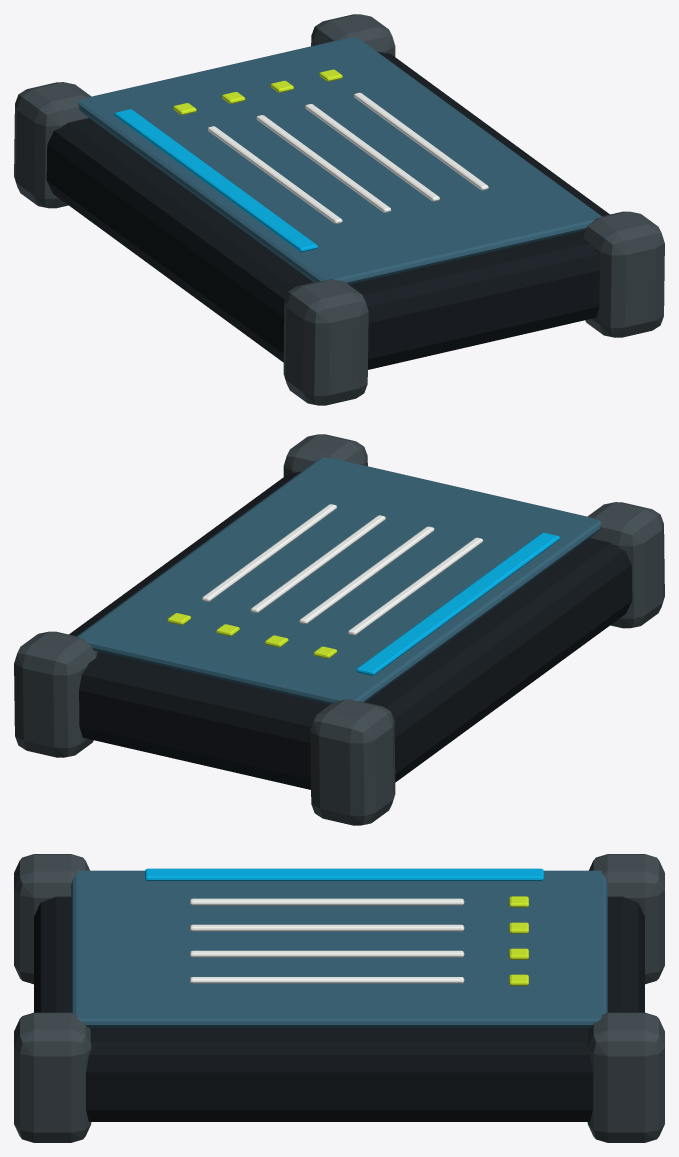
Rendered from PROP_Tablet.mobile.glb.
3 renders of one model, top to bottom at view 1: azimuth 30°, elevation 25°; view 2: azimuth 150°, elevation 25°; view 3: azimuth 270°, elevation 25°, orthographic. The views are drawn at different scales.
Visible parts, largest first — view 1: PROP_Tablet; view 2: PROP_Tablet; view 3: PROP_Tablet.
Boxes of the visible parts, bbox=[...] form: PROP_Tablet: bbox=[14, 14, 664, 405]; PROP_Tablet: bbox=[14, 434, 664, 825]; PROP_Tablet: bbox=[14, 854, 664, 1142].
Bounding box in the file's own units: 0.1775 × 0.054 × 0.261.
2 materials, 1 textured.
